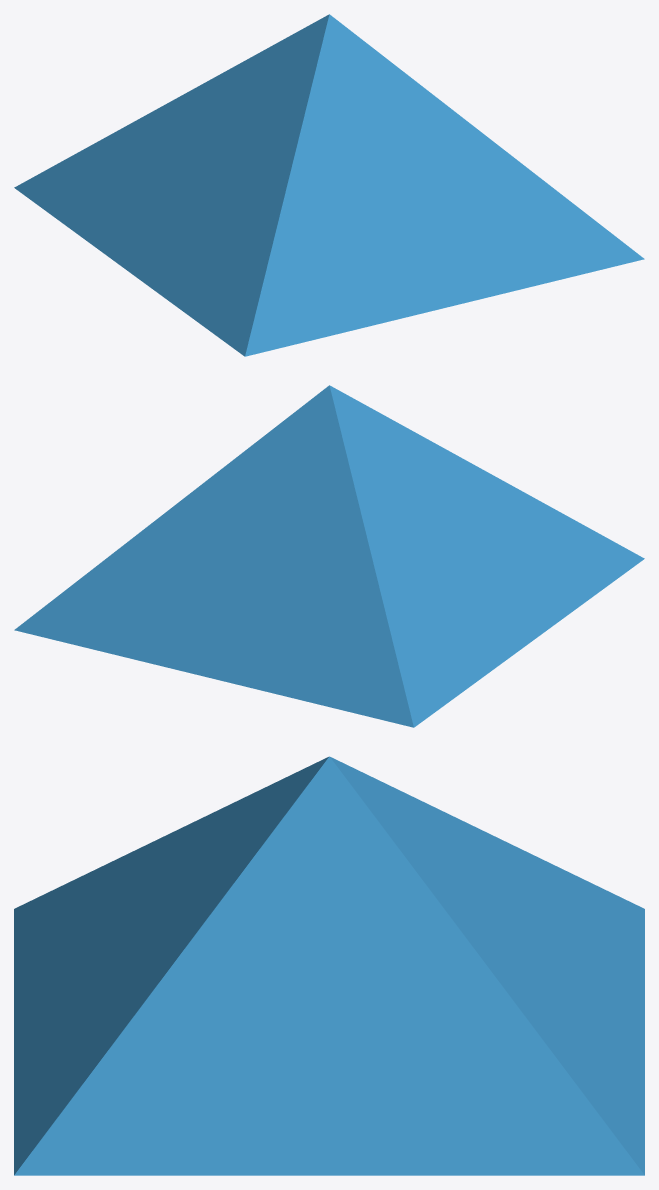
File: Field_Cube_panetratewall.glb
3 views of the same model, one above another, from view 1: azimuth 30°, elevation 25°; view 2: azimuth 150°, elevation 25°; view 3: azimuth 270°, elevation 25° (orthographic). The views are drawn at different scales.
Visible parts, largest first — view 1: quadra; view 2: quadra; view 3: quadra.
Boxes of the visible parts, x1,y1,x2,y2 form: quadra: (14, 14, 644, 356); quadra: (14, 385, 644, 727); quadra: (14, 756, 644, 1175).
Size of the model in its own units: 2 by 1 by 2.
